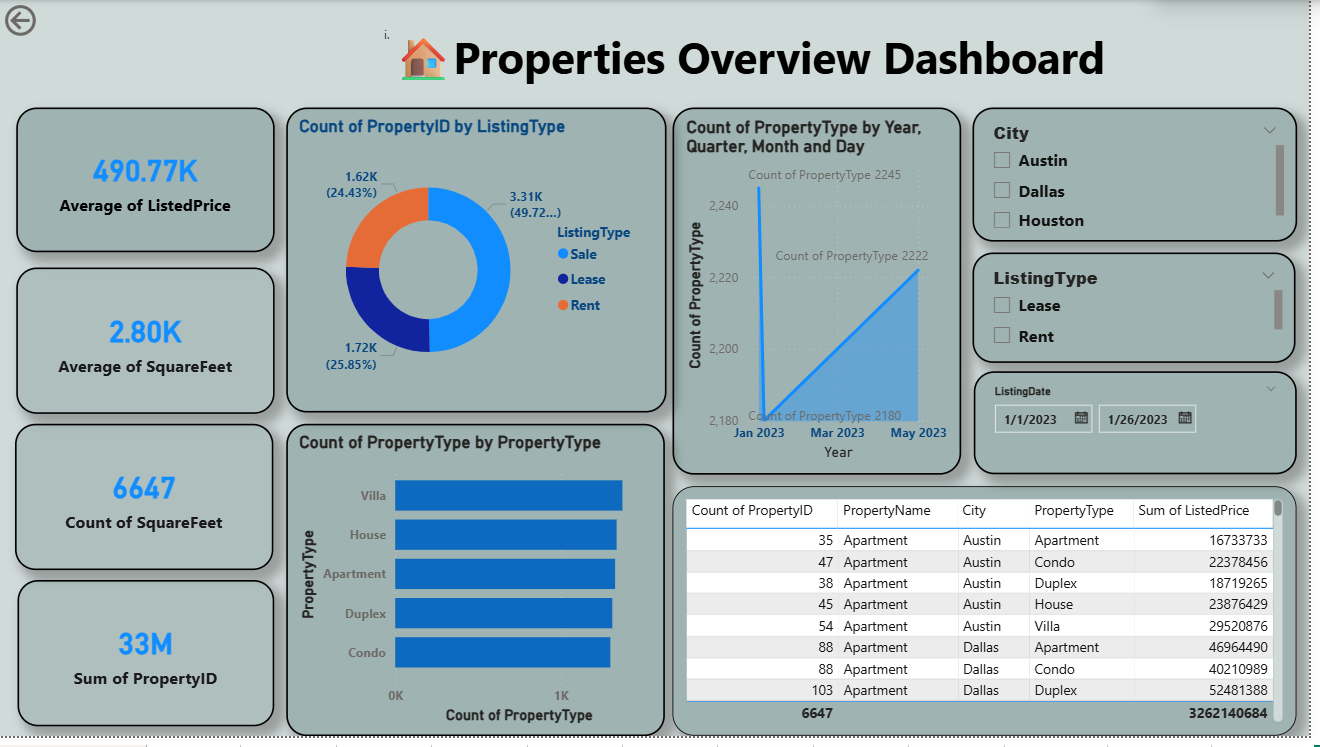

The dashboard page shown, as its layout file describes it:
{"tool":"powerbi","page":{"name":"Page 1","canvas":[1280,720],"ordinal":0},"visuals":[{"type":"lineChart","fields":{"Category":["Properties.SoldDate.Variation.Date Hierarchy.Year","Properties.SoldDate.Variation.Date Hierarchy.Quarter","Properties.SoldDate.Variation.Date Hierarchy.Month","Properties.SoldDate.Variation.Date Hierarchy.Day"],"Y":["CountNonNull(Properties.PropertyType)"]},"box":[657.9,105.3,282.8,359.2],"z":0},{"type":"actionButton","box":[0,0,100,40],"z":1000},{"type":"card","fields":{"Values":["Avg(Properties.ListedPrice)"]},"box":[15.9,105.3,252.5,141.4],"z":2000},{"type":"card","fields":{"Values":["Avg(Properties.SquareFeet)"]},"box":[15.9,261.1,252.5,142.8],"z":3000},{"type":"card","fields":{"Values":["CountNonNull(Properties.SquareFeet)"]},"box":[14.4,414.1,252.5,142.8],"z":4000},{"type":"card","fields":{"Values":["Sum(Properties.PropertyID)"]},"box":[17.3,567,251,142.8],"z":5000},{"type":"barChart","fields":{"Category":["Properties.PropertyType"],"Y":["CountNonNull(Properties.PropertyType)"]},"box":[279.9,414.1,370.8,305.9],"z":6000},{"type":"donutChart","fields":{"Category":["Properties.ListingType"],"Y":["CountNonNull(Properties.PropertyID)"]},"box":[279.9,105.3,372.2,298.7],"z":7000},{"type":"tableEx","fields":{"Values":["CountNonNull(Properties.PropertyID)","Properties.PropertyName","Properties.City","Properties.PropertyType","Sum(Properties.ListedPrice)"]},"box":[657.9,476.1,610.3,243.8],"z":8000},{"type":"textbox","box":[290,20.2,820.9,76.5],"z":8001},{"type":"slicer","fields":{"Values":["Properties.City"]},"box":[950.8,105.3,317.4,131.3],"z":8002},{"type":"slicer","fields":{"Values":["Properties.ListingType"]},"box":[950.8,246.7,316,108.2],"z":8003},{"type":"slicer","fields":{"Values":["Properties.ListingDate"]},"box":[952.2,363.6,316,101],"z":8004}]}

Visuals, with their boxes in screenshot pixels (x1, y1, x2, y2), scaled from the page's 1280x720 canvas onto the 1320x747 screenshot:
lineChart - Properties.SoldDate.Variation.Date Hierarchy.Year x Properties.SoldDate.Variation.Date Hierarchy.Quarter: 678 109 970 482
actionButton: 0 0 103 42
card - Avg(Properties.ListedPrice): 16 109 277 256
card - Avg(Properties.SquareFeet): 16 271 277 419
card - CountNonNull(Properties.SquareFeet): 15 430 275 578
card - Sum(Properties.PropertyID): 18 588 277 736
barChart - Properties.PropertyType x CountNonNull(Properties.PropertyType): 289 430 671 746
donutChart - Properties.ListingType x CountNonNull(Properties.PropertyID): 289 109 672 419
tableEx - CountNonNull(Properties.PropertyID) x Properties.PropertyName: 678 494 1308 746
textbox: 299 21 1146 100
slicer - Properties.City: 981 109 1308 245
slicer - Properties.ListingType: 981 256 1306 368
slicer - Properties.ListingDate: 982 377 1308 482
